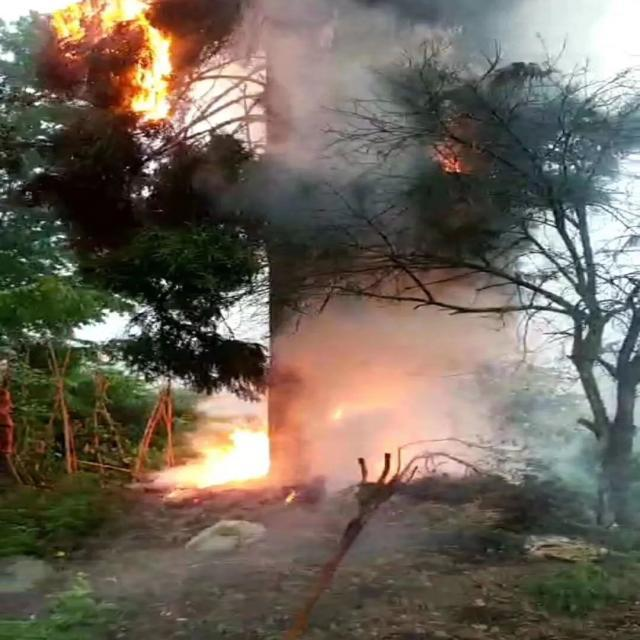Fire: (108, 2, 178, 119), (164, 429, 272, 486), (50, 1, 96, 38)
